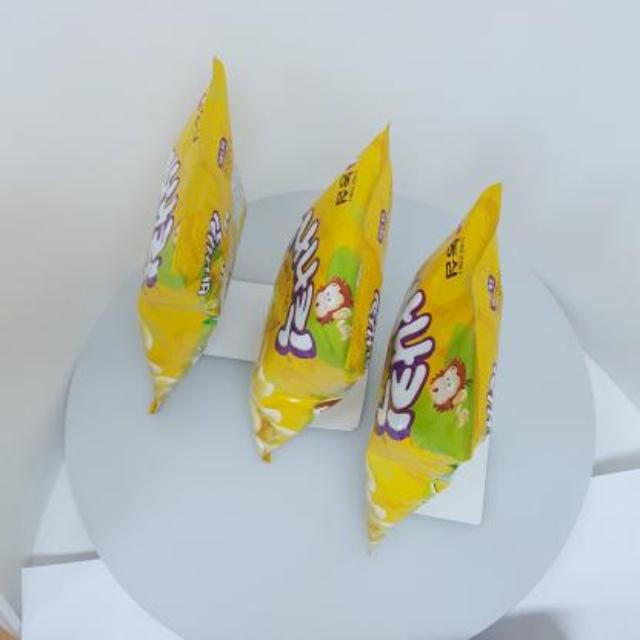snack_bag: (129, 43, 515, 553)
